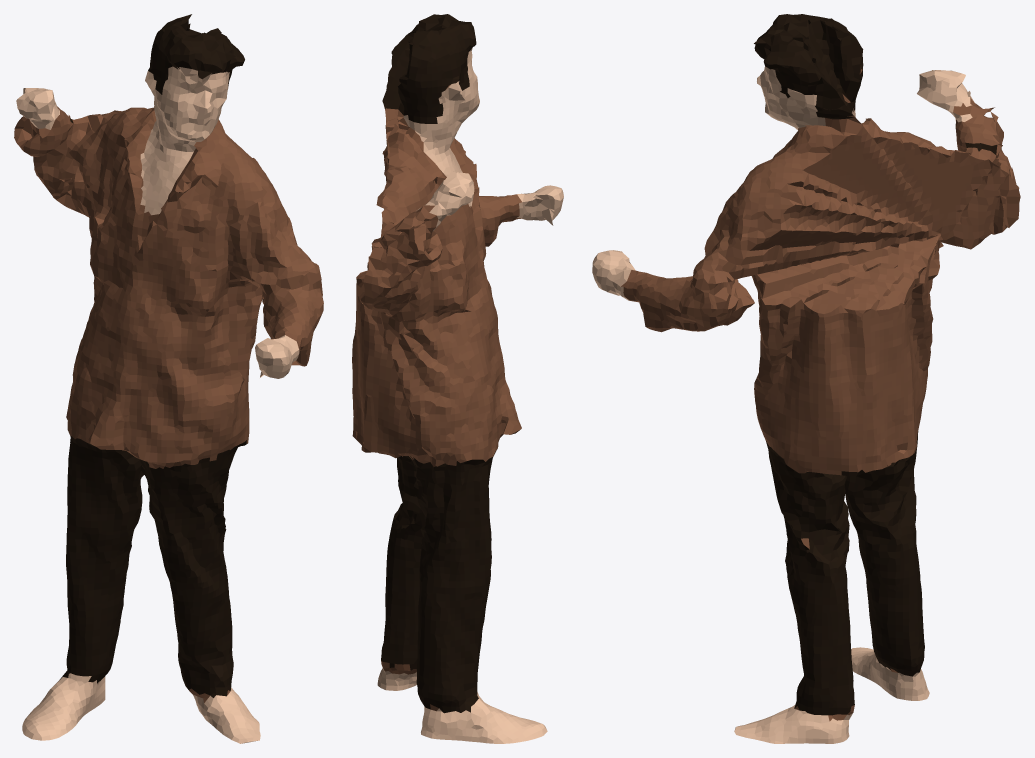
File: antoine4.glb
The picture shows the model from 3 angles, left to right: view 1: azimuth 30°, elevation 25°; view 2: azimuth 150°, elevation 25°; view 3: azimuth 270°, elevation 25°; orthographic projection. The views are drawn at different scales.
Parts seen in each view (by area): view 1: test; view 2: test; view 3: test.
Part boxes in pixels (x1=…): test: x1=14, y1=14, x2=323, y2=743; test: x1=352, y1=14, x2=563, y2=743; test: x1=592, y1=14, x2=1020, y2=743.
Bounding box in the file's own units: 0.5683 × 1.73 × 0.9604.
